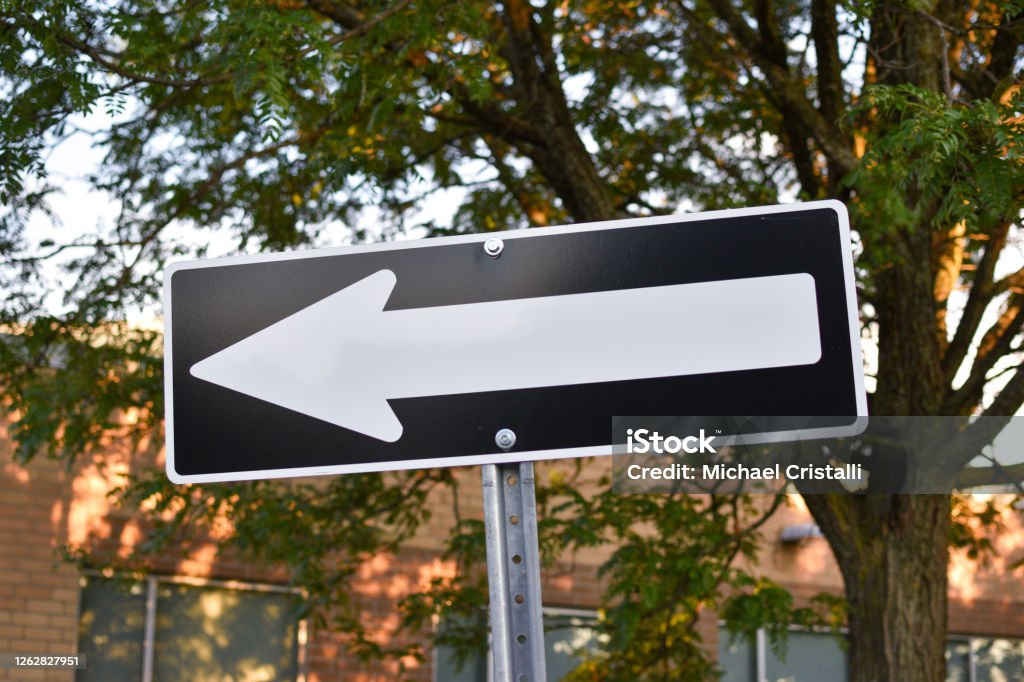sign_oneway_left: (160, 197, 866, 484)
